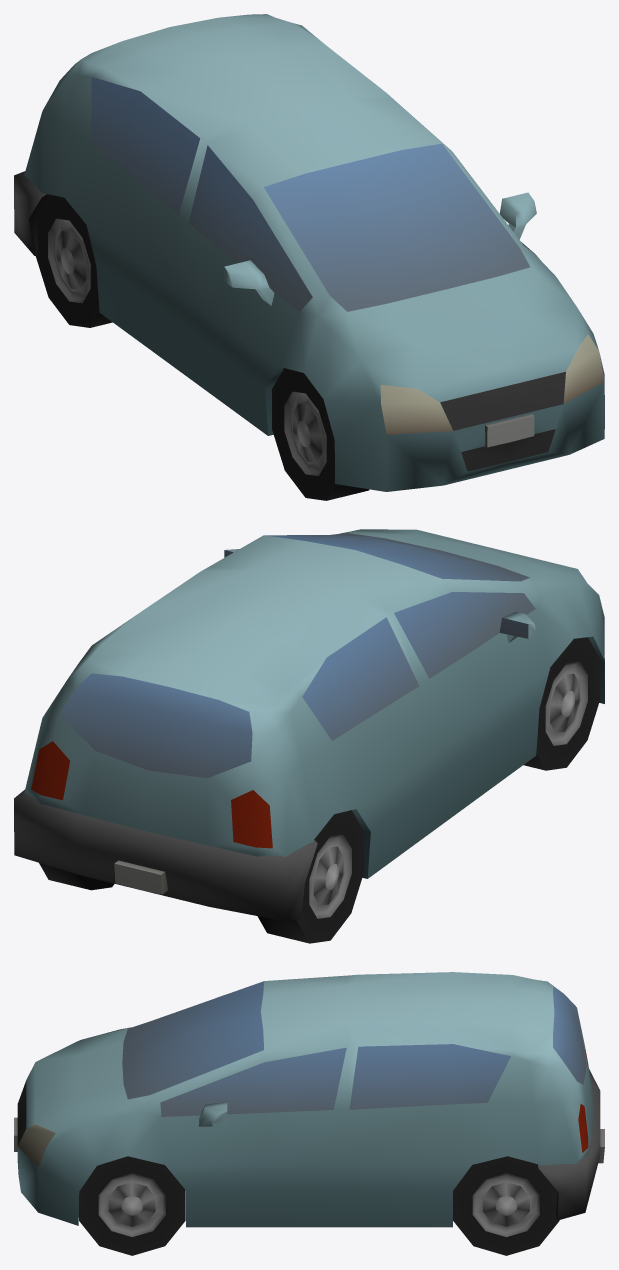
The model's file is vehicles-cars-hatchback_v1.fbx.
3 views of the same model, one above another, from view 1: azimuth 30°, elevation 25°; view 2: azimuth 150°, elevation 25°; view 3: azimuth 270°, elevation 25° (orthographic). The views are drawn at different scales.
Visible parts, largest first — view 1: Hatchback_v1; view 2: Hatchback_v1; view 3: Hatchback_v1.
Boxes of the visible parts, x1,y1,x2,y2 form: Hatchback_v1: (14, 14, 604, 500); Hatchback_v1: (14, 529, 604, 943); Hatchback_v1: (14, 972, 604, 1255).
Bounding box in the file's own units: 2.07 × 1.7 × 4.4.
